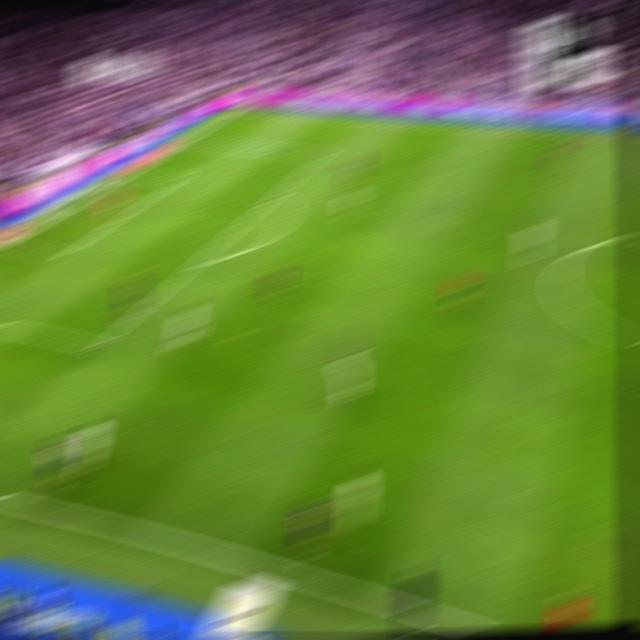bigarea_bottom_inner: (88, 337, 110, 353)
bigarea_top_inner: (313, 150, 331, 160)
bottom_arc_area_intersection: (188, 256, 207, 266)
corner: (234, 106, 251, 109)
smallarea_top_inner: (170, 177, 186, 181)
top_arc_area_intersection: (262, 190, 283, 201)
